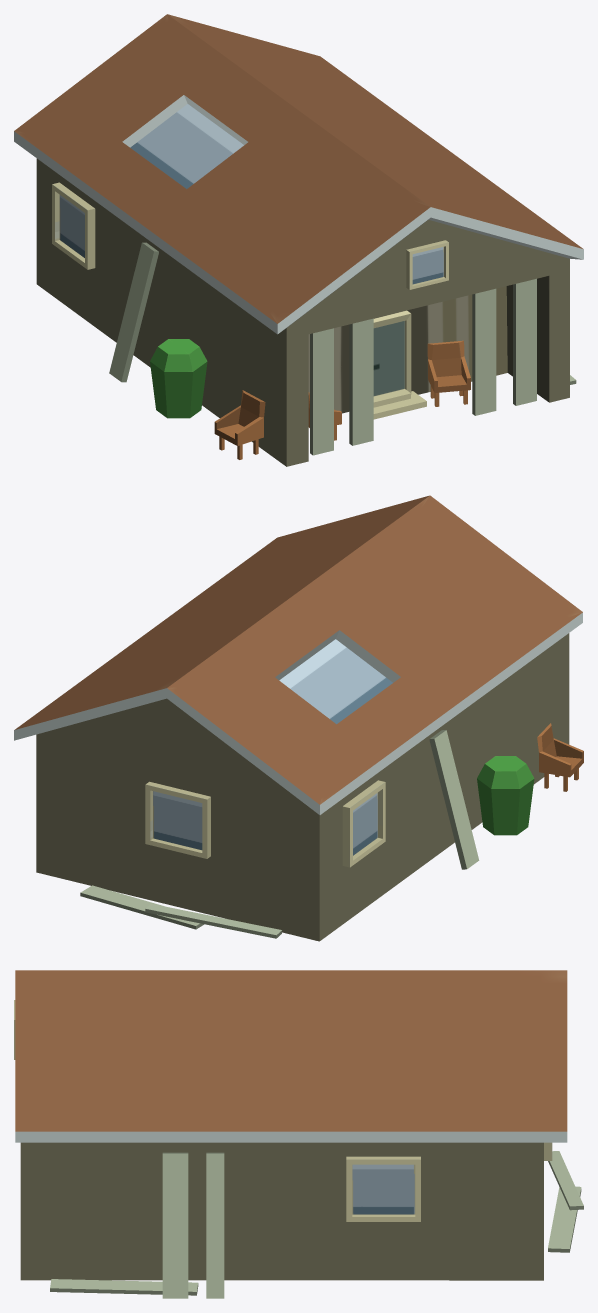
Rendered from Poor House.fbx.
3 renders of one model, top to bottom at view 1: azimuth 30°, elevation 25°; view 2: azimuth 150°, elevation 25°; view 3: azimuth 270°, elevation 25°, orthographic. The views are drawn at different scales.
Visible parts, largest first — view 1: Poor House; view 2: Poor House; view 3: Poor House.
Boxes of the visible parts, bbox=[...] form: Poor House: bbox=[14, 14, 583, 466]; Poor House: bbox=[14, 495, 583, 941]; Poor House: bbox=[14, 970, 583, 1298].
Bounding box in the file's own units: 3.7 × 2.21 × 4.78.
